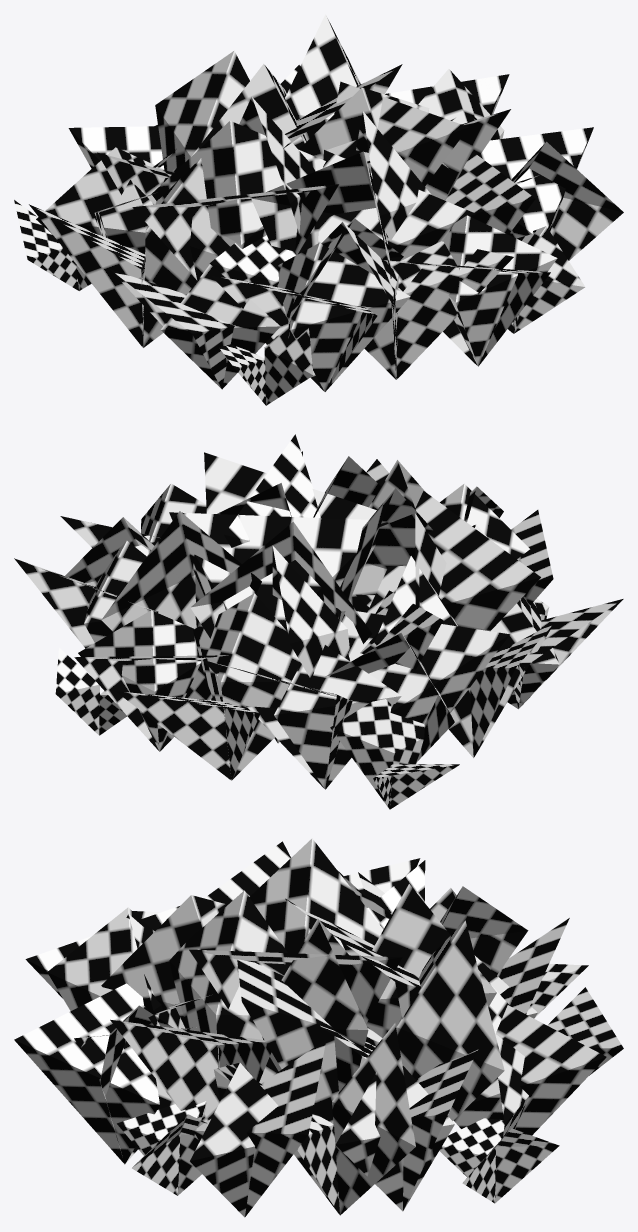
Rendered from nafltr65.dae.
3 views of the same model, one above another, from view 1: azimuth 30°, elevation 25°; view 2: azimuth 150°, elevation 25°; view 3: azimuth 270°, elevation 25° (orthographic). The views are drawn at different scales.
Visible parts, largest first — view 1: trunk; view 2: trunk; view 3: trunk.
Boxes of the visible parts, x1=… form: trunk: x1=14, y1=14, x2=623, y2=405; trunk: x1=14, y1=434, x2=623, y2=809; trunk: x1=14, y1=838, x2=623, y2=1217.
Size of the model in its own units: 13.22 by 12.81 by 5.9.
1 material, 1 textured.
